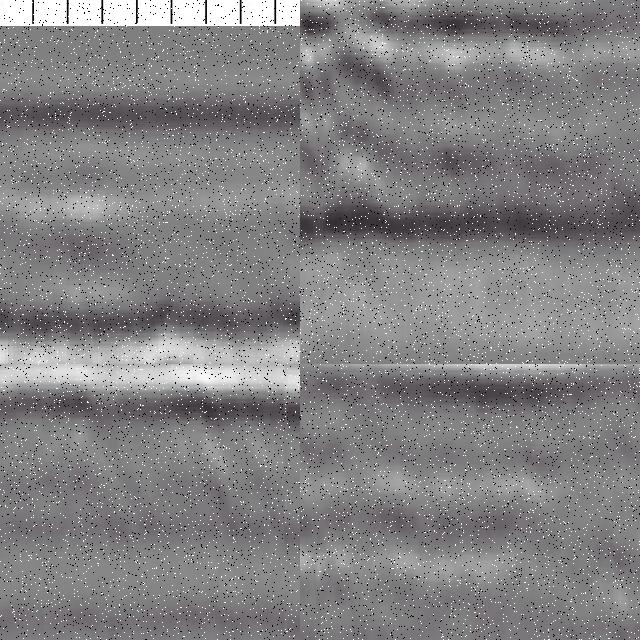loose: (301, 1, 475, 249)
